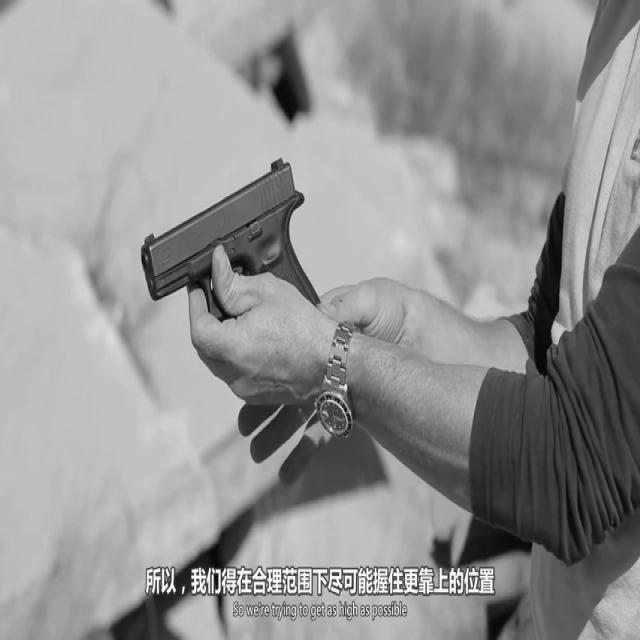Hand-Gun: (135, 111, 320, 397)
